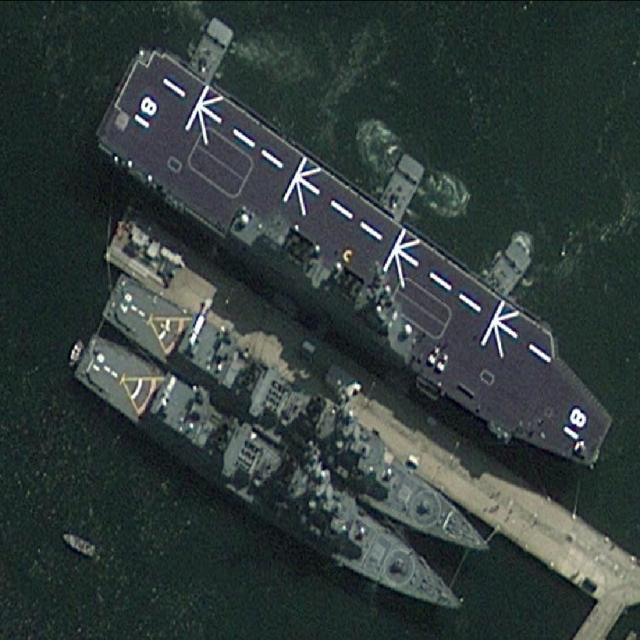Destroyer: (78, 39, 639, 492), (57, 317, 481, 639), (89, 261, 510, 576)
